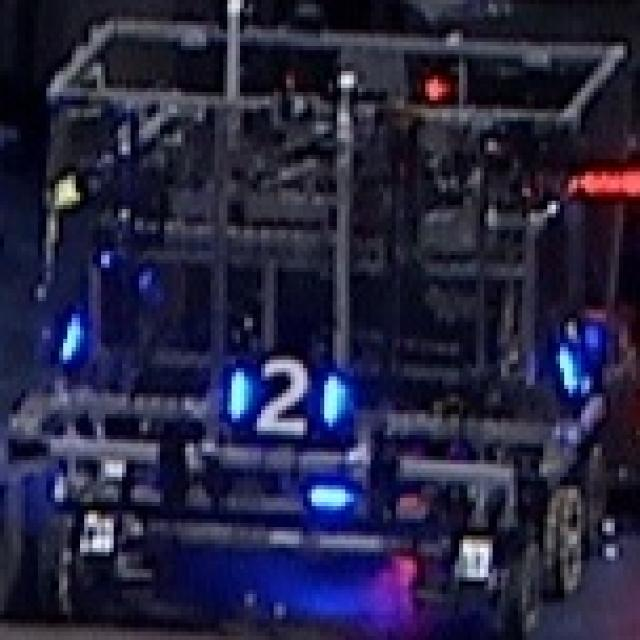B2: (219, 343, 354, 443), (543, 314, 619, 402)
